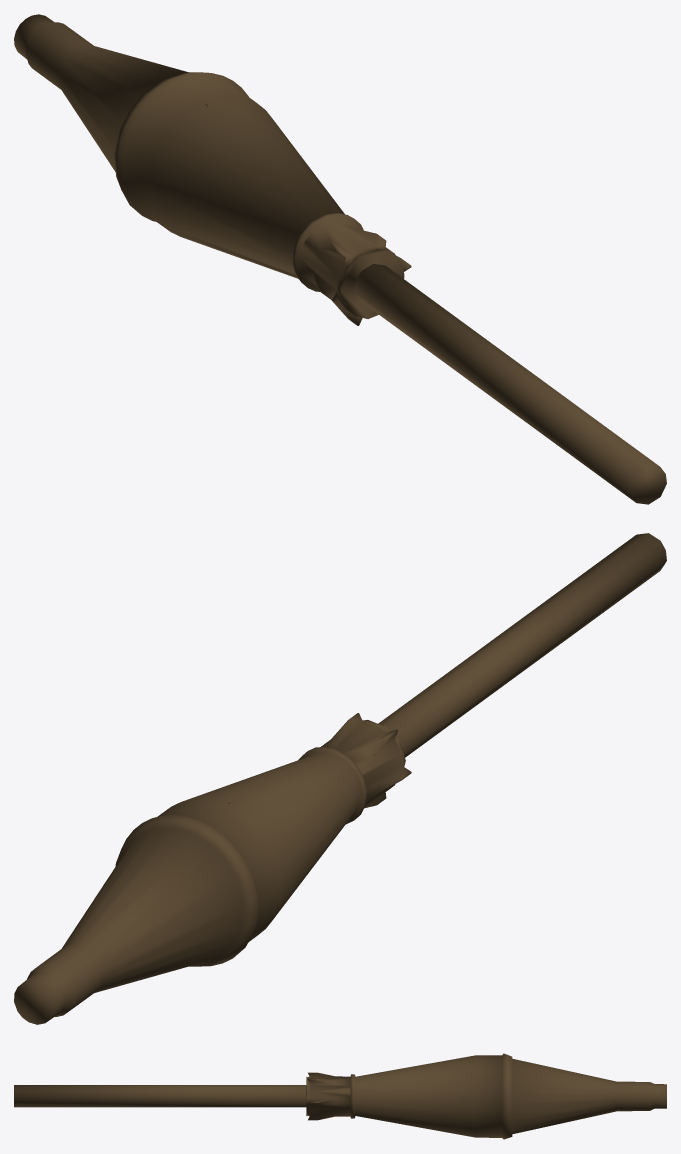
Rendered from rpgshell.fbx.
The picture shows the model from 3 angles, top to bottom: view 1: azimuth 30°, elevation 25°; view 2: azimuth 150°, elevation 25°; view 3: azimuth 270°, elevation 25°; orthographic projection. The views are drawn at different scales.
Visible parts, largest first — view 1: RPG.001; view 2: RPG.001; view 3: RPG.001.
Boxes of the visible parts, x1,y1,x2,y2 form: RPG.001: (14, 14, 666, 504); RPG.001: (14, 533, 666, 1024); RPG.001: (14, 1053, 666, 1139).
Bounding box in the file's own units: 0.1076 × 0.1076 × 0.8106.
